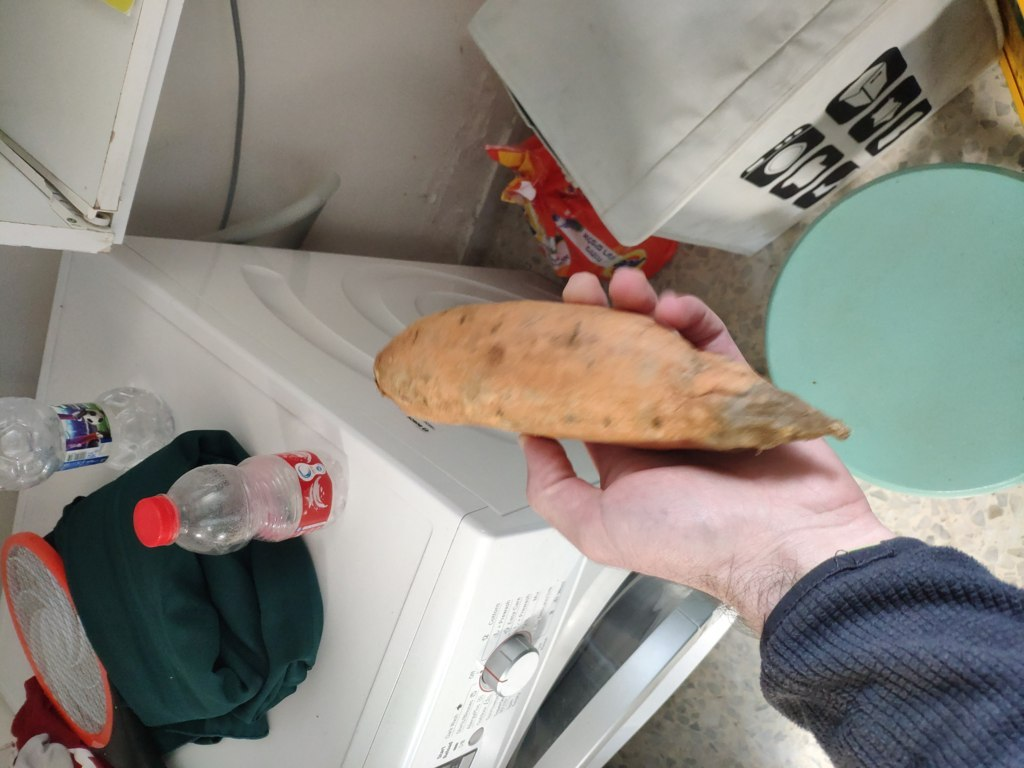Sweet Potato: (390, 281, 895, 418)
